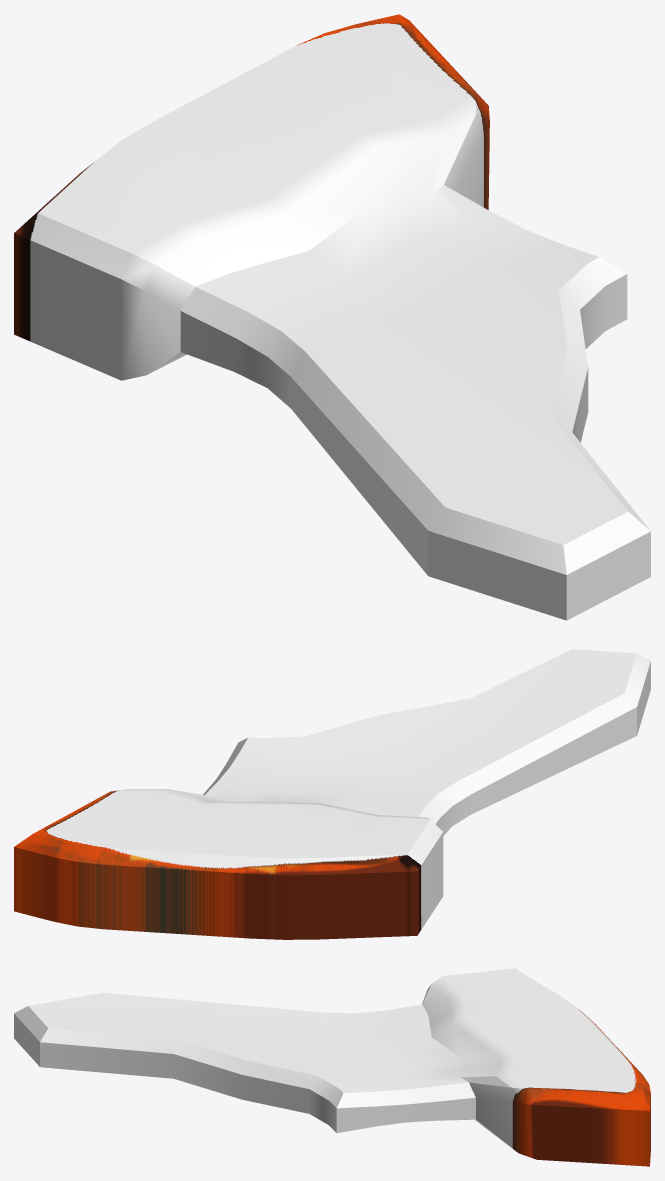
Rendered from Breaker.fbx.
The picture shows the model from 3 angles, top to bottom: view 1: azimuth 30°, elevation 25°; view 2: azimuth 150°, elevation 25°; view 3: azimuth 270°, elevation 25°; orthographic projection. The views are drawn at different scales.
Visible parts, largest first — view 1: Breaker; view 2: Breaker; view 3: Breaker.
Part boxes in pixels (x1,y1,x2,y2): Breaker: (14, 14, 650, 620); Breaker: (14, 649, 650, 939); Breaker: (14, 968, 650, 1166).
Bounding box in the file's own units: 4.5 × 1 × 8.79.
Materials: 1 (1 with a texture image).
